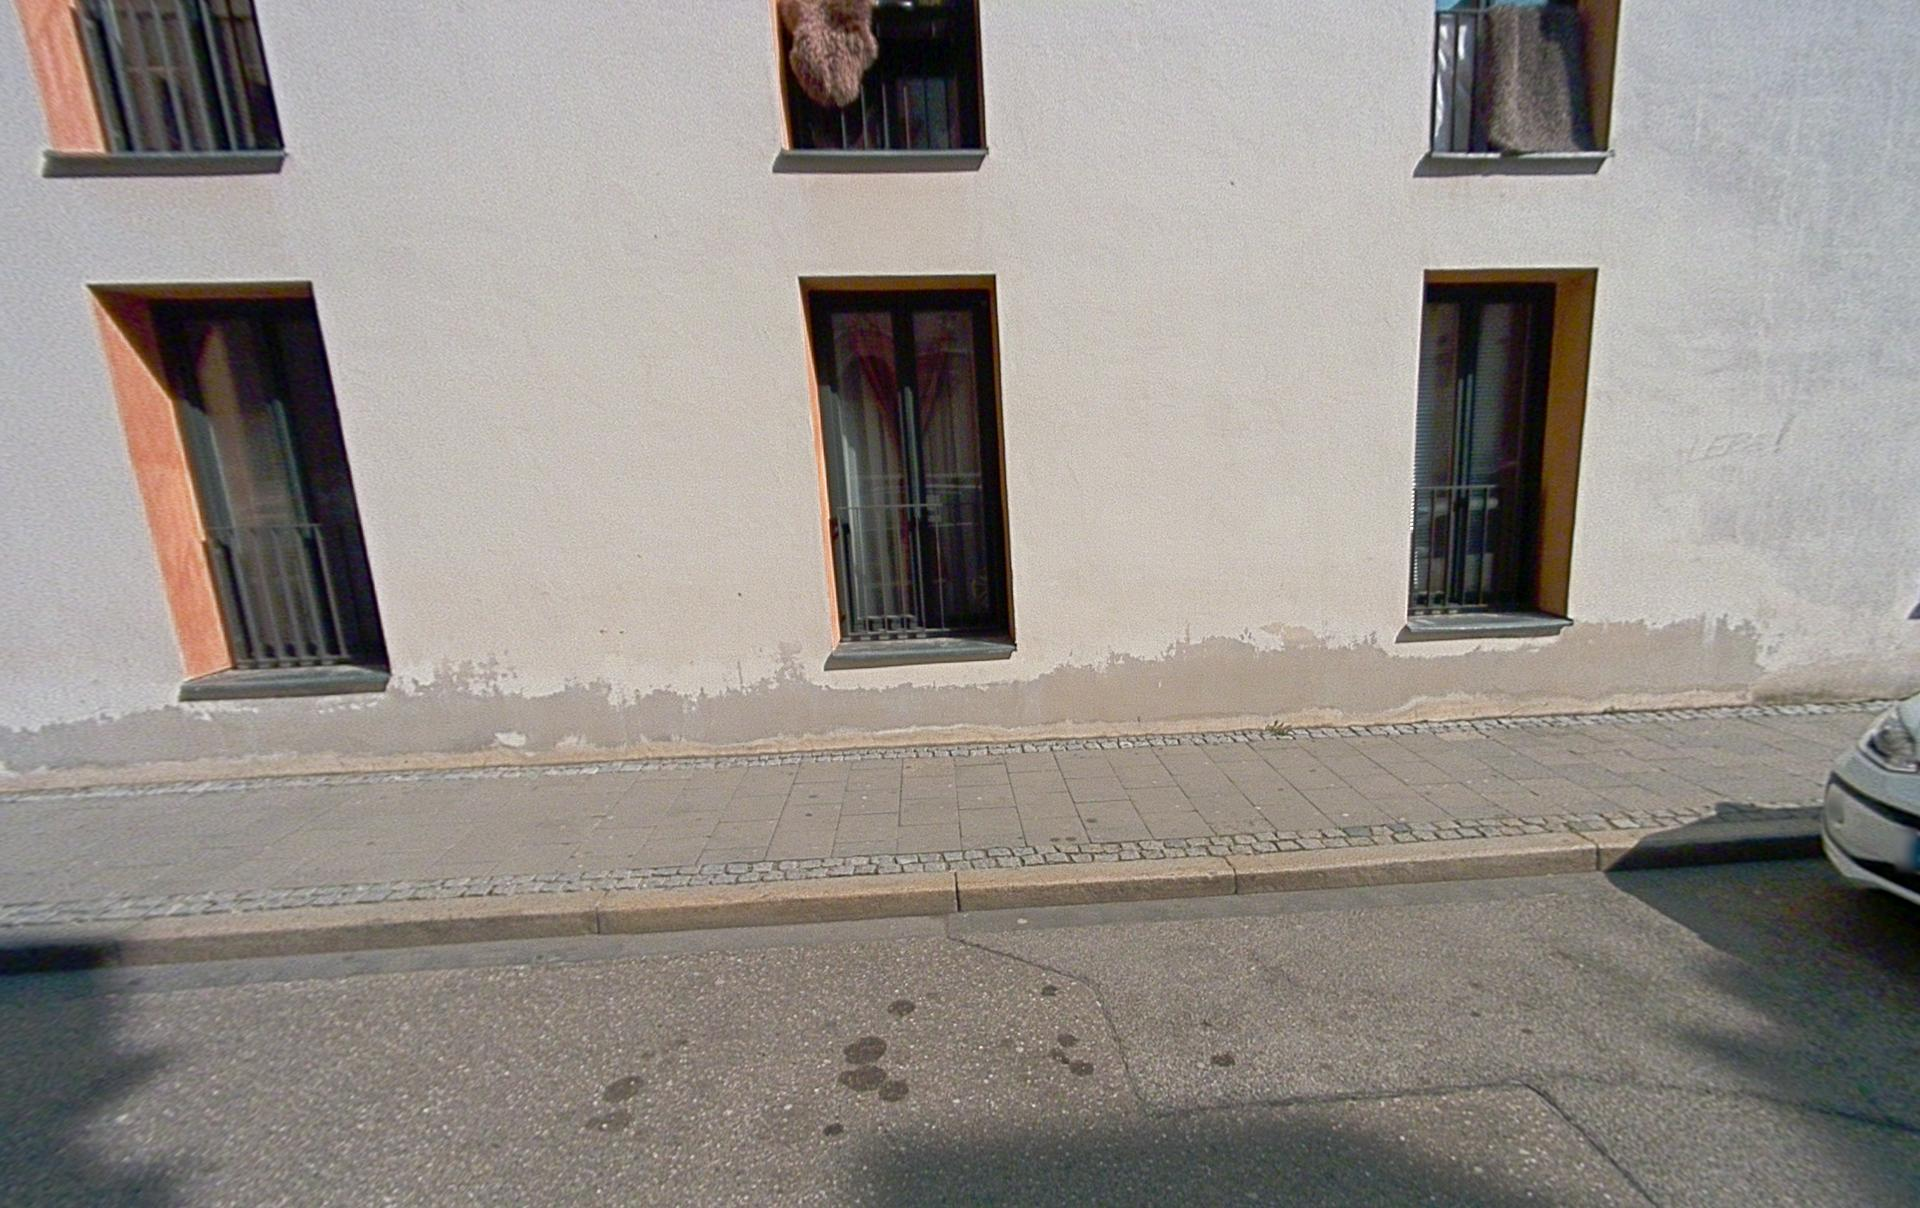car: (1818, 597, 1920, 907), (1819, 690, 1919, 907)
